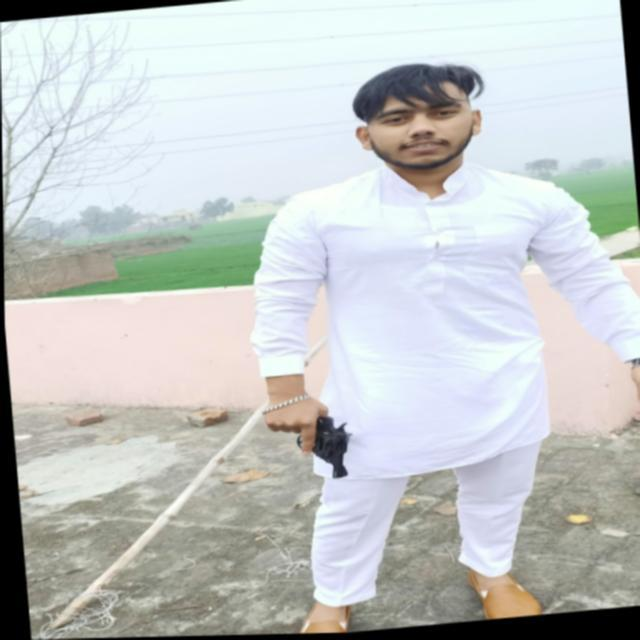weapon: (258, 408, 358, 488)
